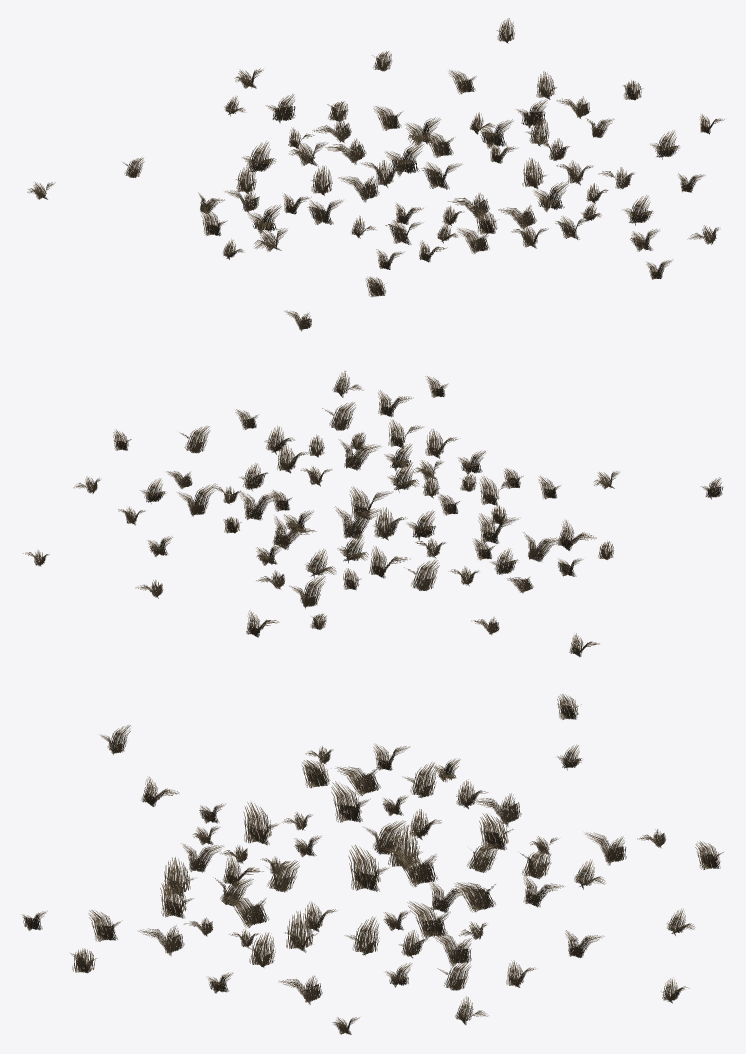
The model's file is plant_grass_01_01.fbx.
3 renders of one model, top to bottom at view 1: azimuth 30°, elevation 25°; view 2: azimuth 150°, elevation 25°; view 3: azimuth 270°, elevation 25°, orthographic. The views are drawn at different scales.
Visible parts, largest first — view 1: temp.002; view 2: temp.002; view 3: temp.002.
Boxes of the visible parts, box(x1,y1,x2,y2) form: temp.002: box(27, 18, 724, 331); temp.002: box(23, 370, 723, 656); temp.002: box(22, 694, 723, 1034).
Size of the model in its own units: 1908 by 115 by 1693.
